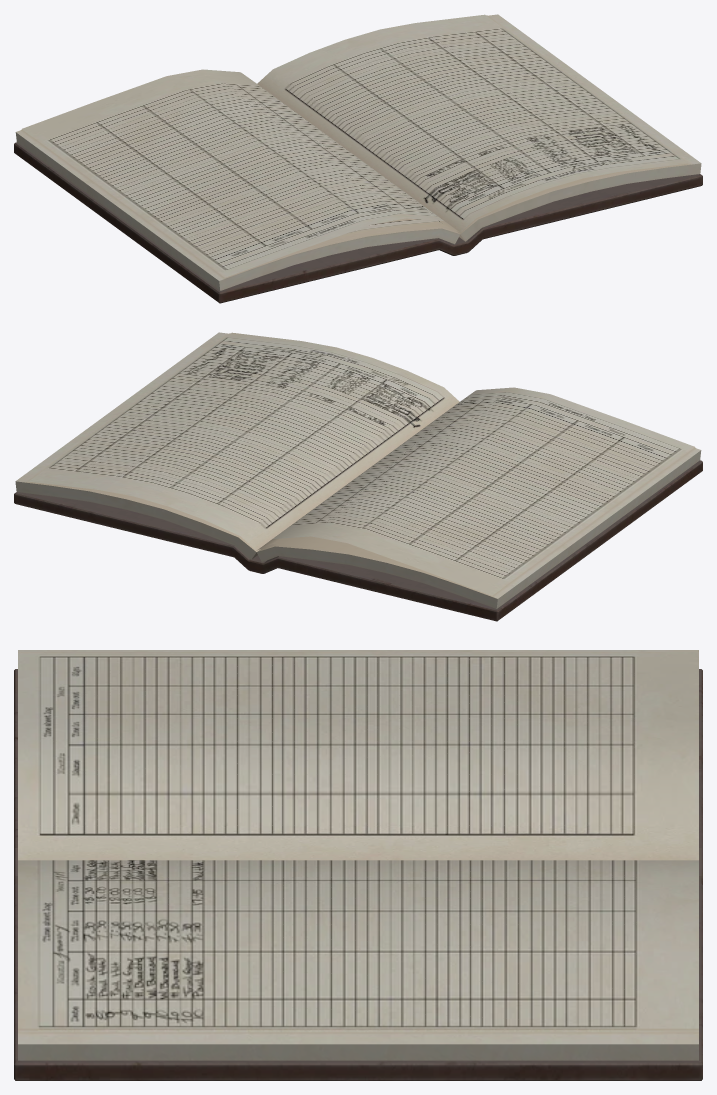
The model's file is logbook.glb.
3 views of the same model, one above another, from view 1: azimuth 30°, elevation 25°; view 2: azimuth 150°, elevation 25°; view 3: azimuth 270°, elevation 25° (orthographic). The views are drawn at different scales.
Visible parts, largest first — view 1: KeyClue_Logbook; view 2: KeyClue_Logbook; view 3: KeyClue_Logbook.
Part boxes in pixels (x1=…): KeyClue_Logbook: x1=14, y1=14, x2=702, y2=303; KeyClue_Logbook: x1=14, y1=332, x2=702, y2=621; KeyClue_Logbook: x1=14, y1=650, x2=702, y2=1080.
Size of the model in its own units: 14 by 1.41 by 10.31.
Materials: 2 (2 with a texture image).
